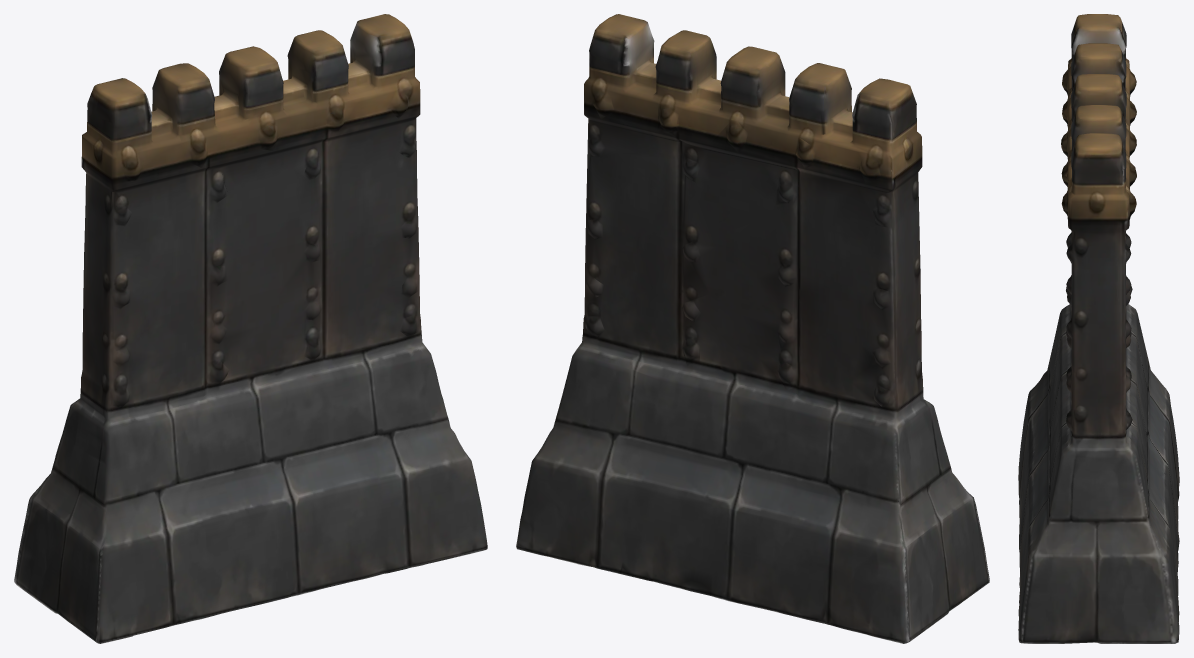
The model's file is SM_Tripo_InfernoRampartPlain.glb.
The picture shows the model from 3 angles, left to right: view 1: azimuth 30°, elevation 25°; view 2: azimuth 150°, elevation 25°; view 3: azimuth 270°, elevation 25°; orthographic projection. The views are drawn at different scales.
Visible parts, largest first — view 1: SM_Tripo_InfernoRampartPlain_LOD0; view 2: SM_Tripo_InfernoRampartPlain_LOD0; view 3: SM_Tripo_InfernoRampartPlain_LOD0.
Part boxes in pixels (box(x1,y1,x2,y2)): SM_Tripo_InfernoRampartPlain_LOD0: box(14, 14, 487, 643); SM_Tripo_InfernoRampartPlain_LOD0: box(516, 14, 989, 643); SM_Tripo_InfernoRampartPlain_LOD0: box(1018, 14, 1179, 643).
Bounding box in the file's own units: 7.04 × 8.75 × 2.7.
Materials: 1 (1 with a texture image).
